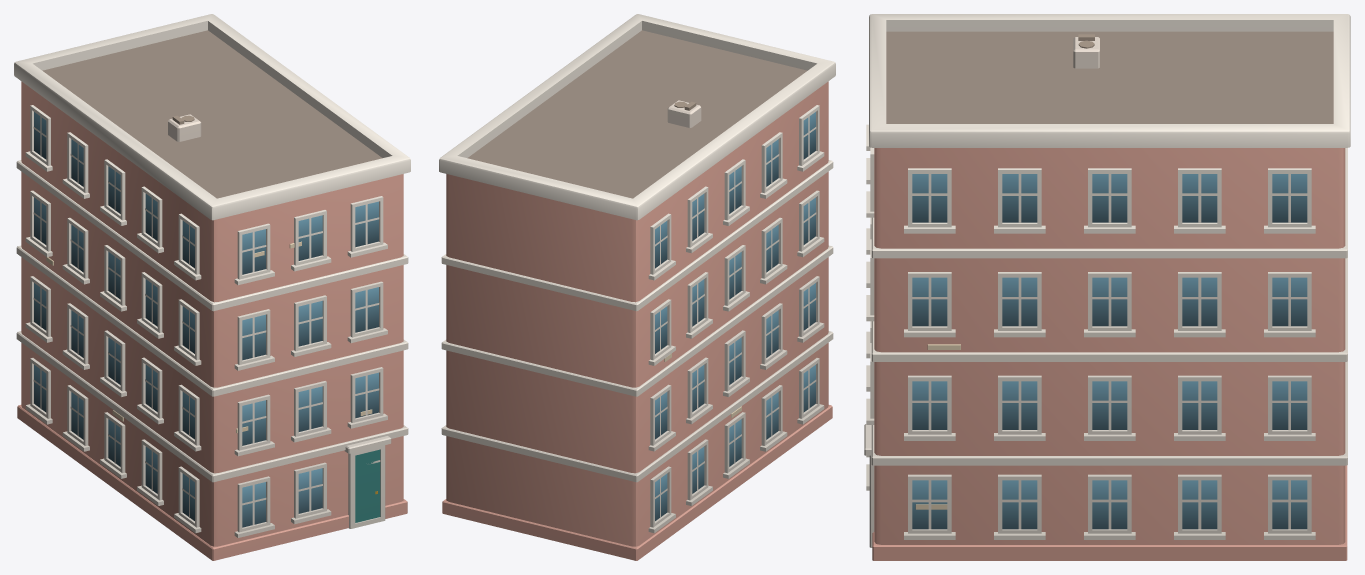
Rendered from boylston_s11.glb.
The picture shows the model from 3 angles, left to right: view 1: azimuth 30°, elevation 25°; view 2: azimuth 150°, elevation 25°; view 3: azimuth 270°, elevation 25°; orthographic projection. The views are drawn at different scales.
Visible parts, largest first — view 1: boylston_s11; view 2: boylston_s11; view 3: boylston_s11.
Boxes of the visible parts, x1,y1,x2,y2 form: boylston_s11: [14, 14, 410, 560]; boylston_s11: [439, 14, 835, 560]; boylston_s11: [864, 14, 1350, 560].
Size of the model in its own units: 8.48 by 14.51 by 14.46.
1 material, 1 textured.
